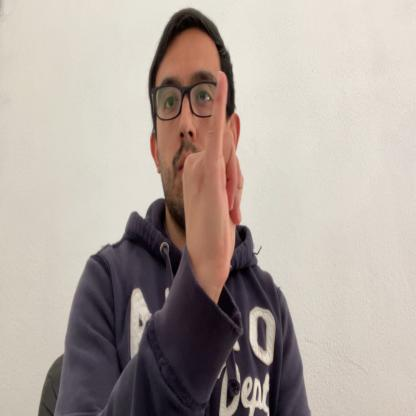I: (183, 70, 243, 287)
